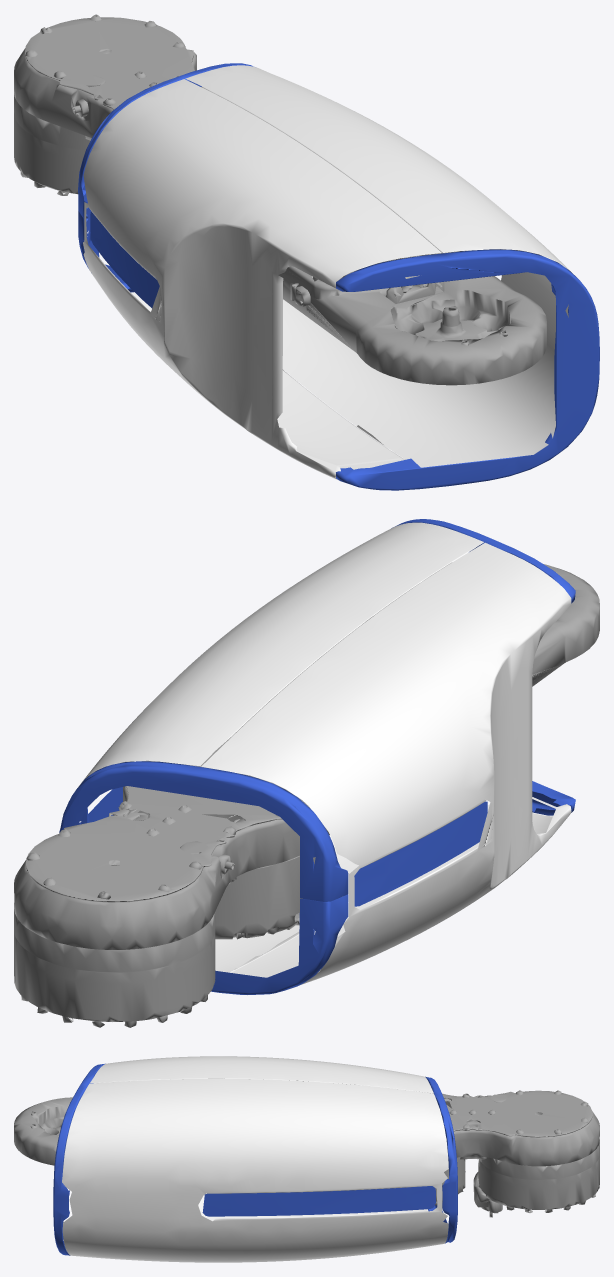
The model's file is sim_ecub_1-1_r_lower_leg.obj.
3 views of the same model, one above another, from view 1: azimuth 30°, elevation 25°; view 2: azimuth 150°, elevation 25°; view 3: azimuth 270°, elevation 25° (orthographic). The views are drawn at different scales.
Size of the model in its own units: 153 by 126 by 408.
